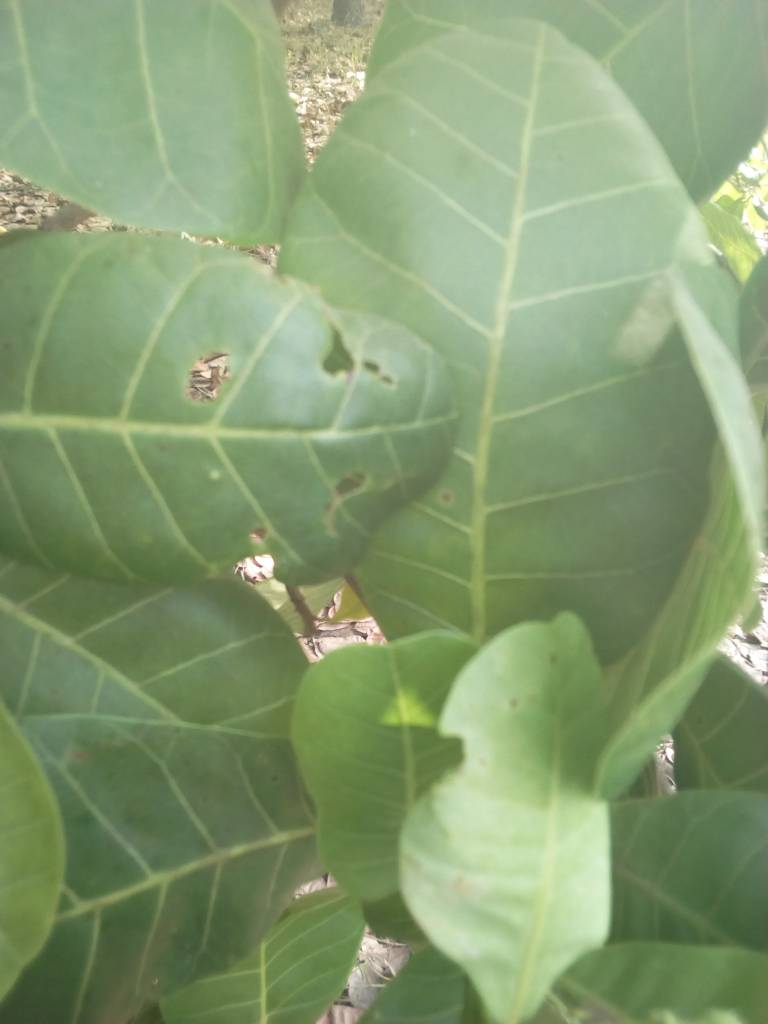Anoplocnemis curvipes: (72, 253, 450, 582)
